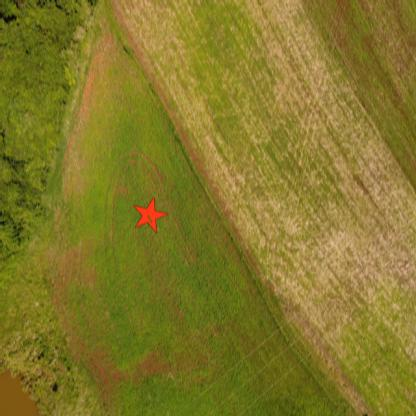I: (144, 213, 155, 228)
star: (133, 197, 168, 238)
